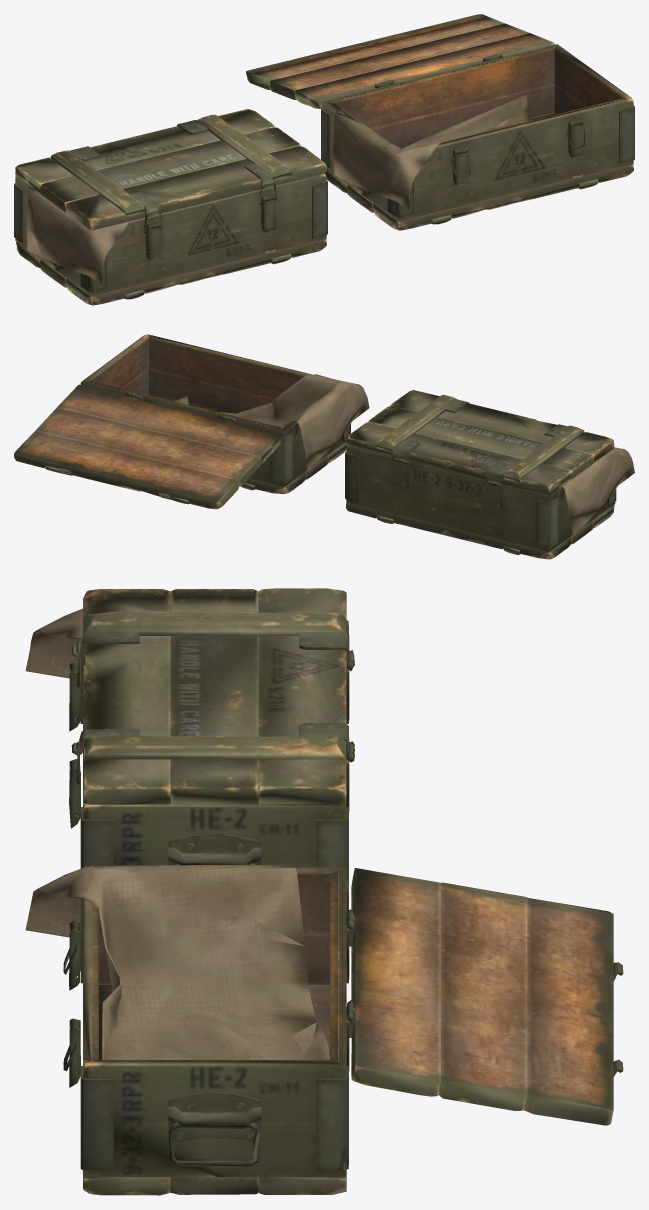
Rendered from old_military_crate.glb.
3 renders of one model, top to bottom at view 1: azimuth 30°, elevation 25°; view 2: azimuth 150°, elevation 25°; view 3: azimuth 270°, elevation 25°, orthographic. The views are drawn at different scales.
Visible parts, largest first — view 1: old_military_crate_lid_a; view 2: old_military_crate_lid_a; view 3: old_military_crate_lid_a.
Part boxes in pixels (left/top/right/bottom): old_military_crate_lid_a: left=14, top=14, right=634, bottom=305; old_military_crate_lid_a: left=14, top=334, right=634, bottom=559; old_military_crate_lid_a: left=25, top=588, right=623, bottom=1195.
Bounding box in the file's own units: 1.81 × 0.3009 × 0.9753.
Materials: 1 (1 with a texture image).
